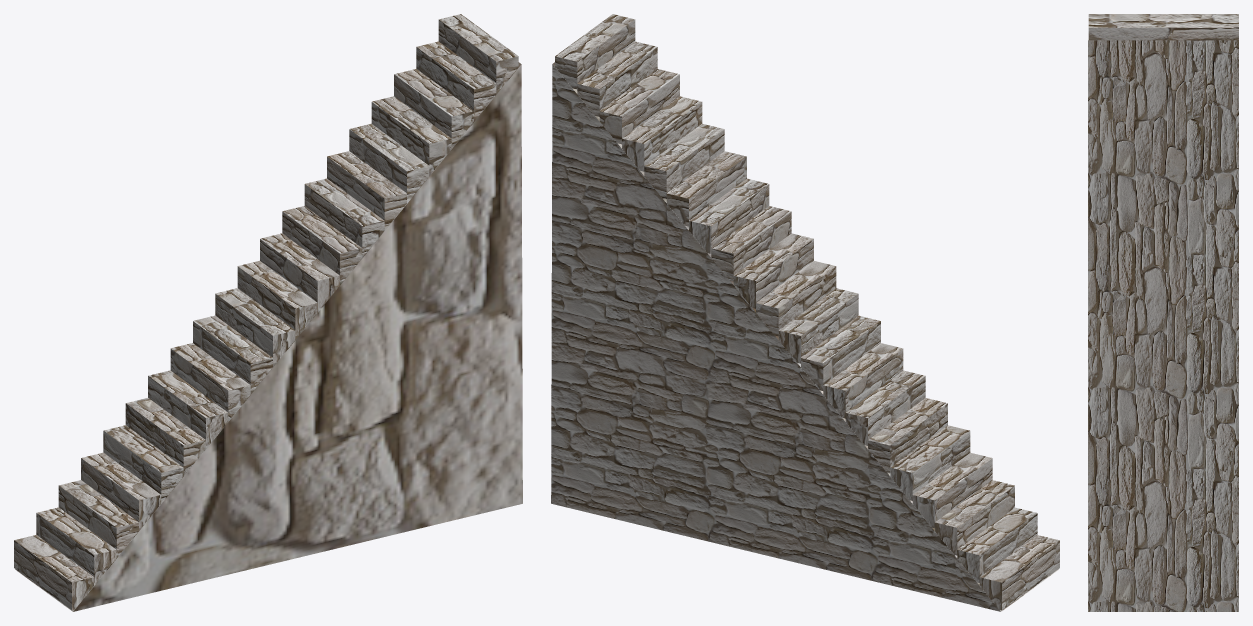
Rendered from stairs_spiral.fbx.
3 views of the same model, side by side, from view 1: azimuth 30°, elevation 25°; view 2: azimuth 150°, elevation 25°; view 3: azimuth 270°, elevation 25° (orthographic). The views are drawn at different scales.
Visible parts, largest first — view 1: Cube.008; view 2: Cube.008; view 3: Cube.008.
Part boxes in pixels (<box>): Cube.008: <box>14,14,522,611</box>; Cube.008: <box>551,14,1059,611</box>; Cube.008: <box>1088,14,1238,611</box>.
Bounding box in the file's own units: 848 × 806 × 190.
1 material, 1 textured.
